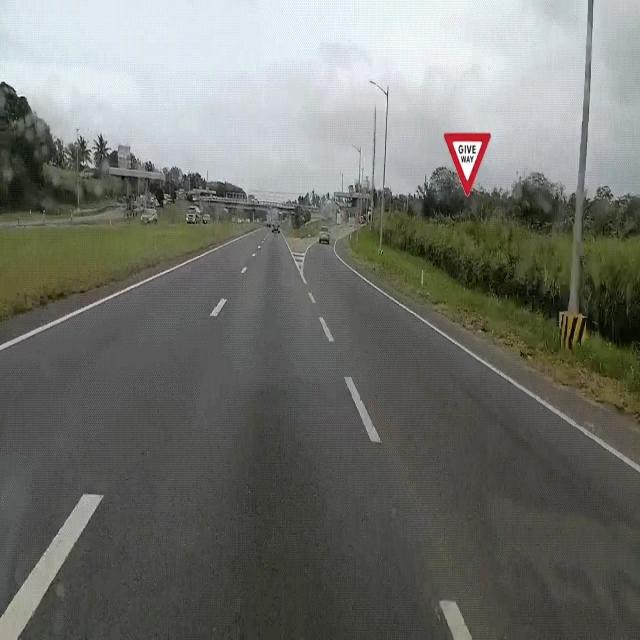Ceder-le-Passage: (442, 124, 494, 199)
